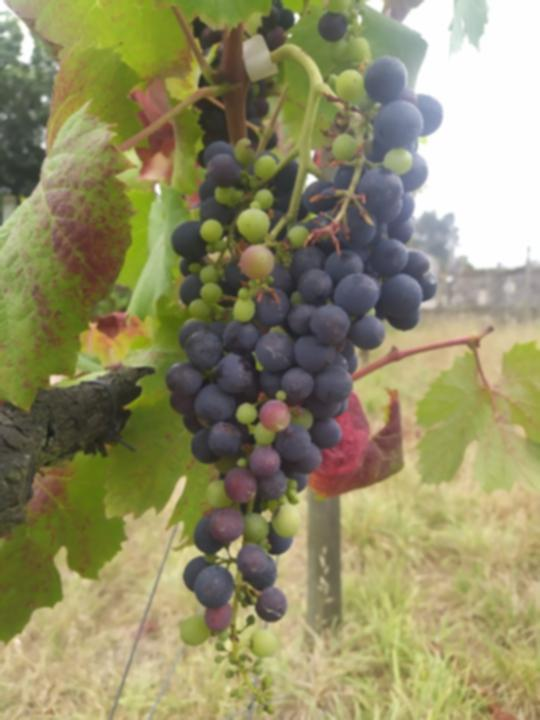grape: (164, 55, 443, 715)
